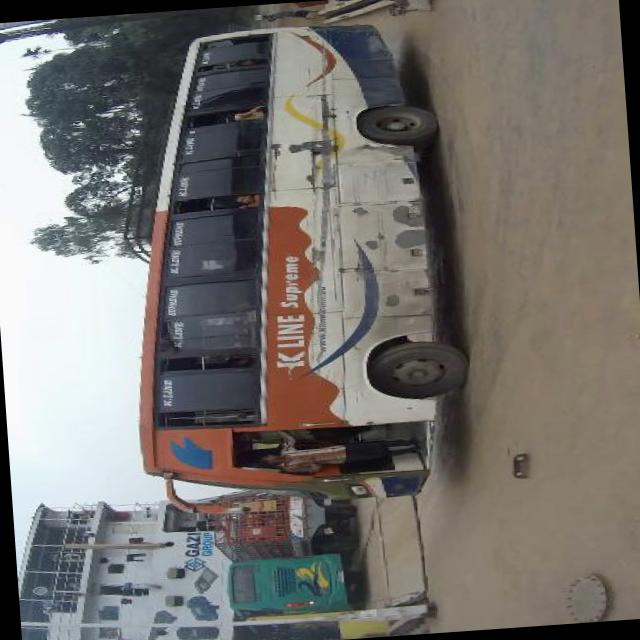bus: (115, 16, 475, 520), (223, 552, 358, 640)
truck: (212, 496, 356, 561)
